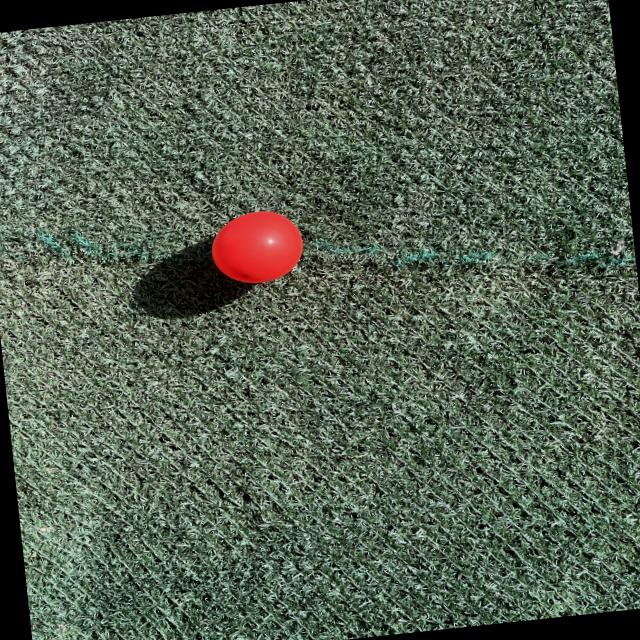balloon: (212, 211, 302, 283)
